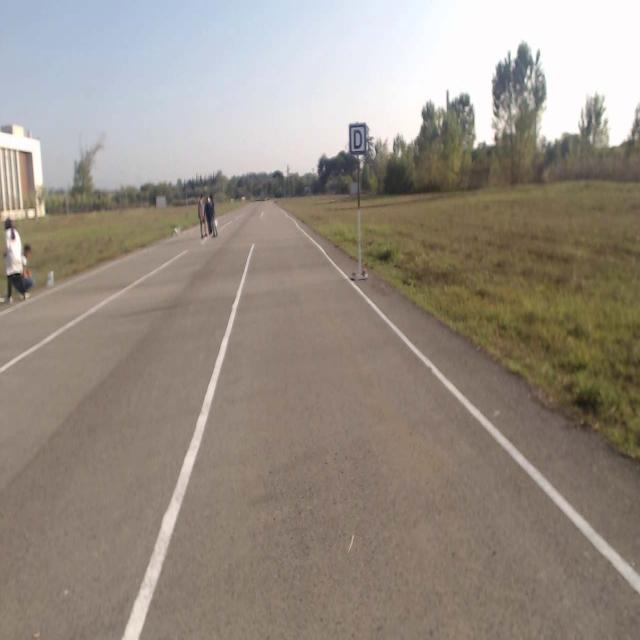durak: (349, 124, 367, 154)
